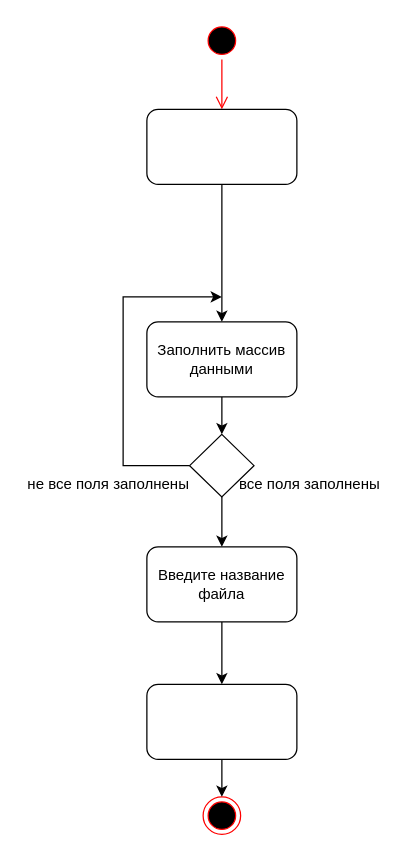
Some shapes in this 413 by 856 pixel diagram are drawn without their labels. Each missing label, with the box of its shape:
Задать размер массива: (146, 108, 297, 184)
Сохранение в файл: (146, 683, 297, 759)
